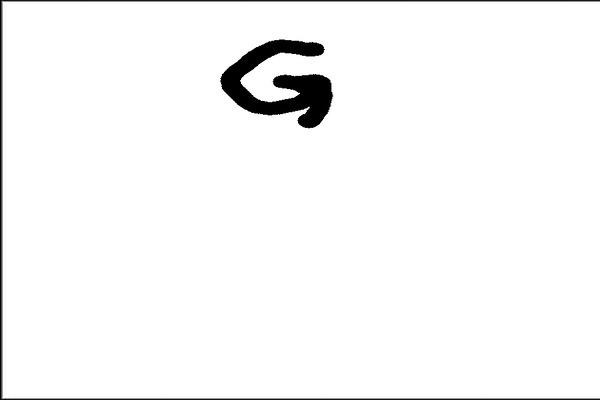G: (216, 35, 336, 132)
